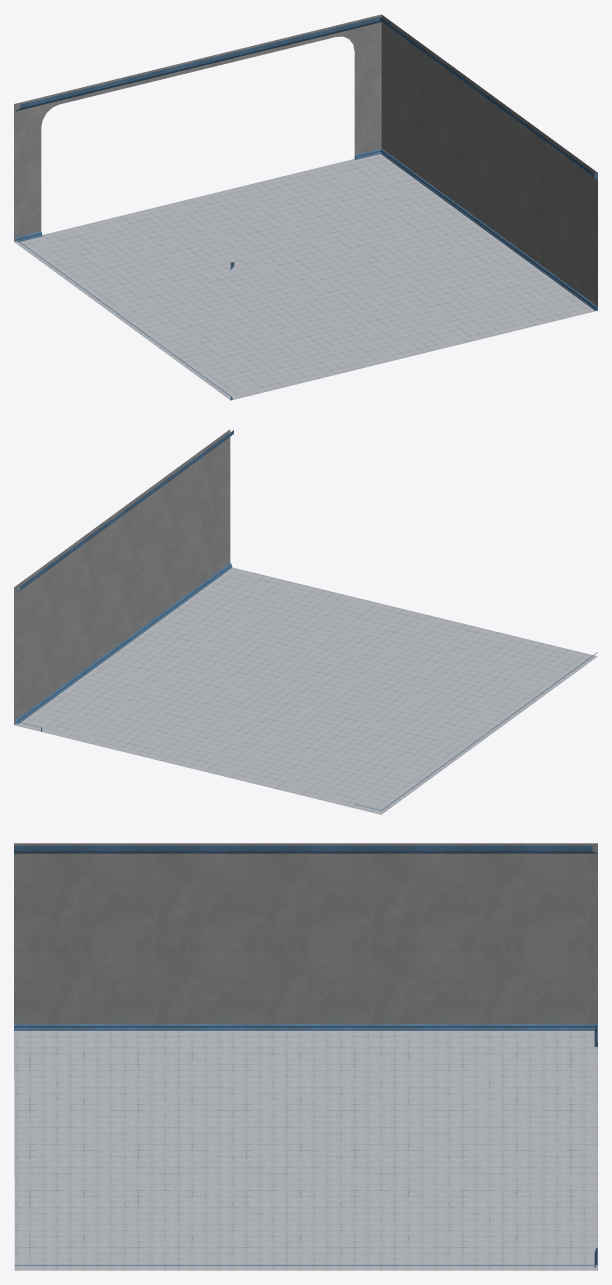
Rendered from PZ_ckpt2.glb.
3 views of the same model, one above another, from view 1: azimuth 30°, elevation 25°; view 2: azimuth 150°, elevation 25°; view 3: azimuth 270°, elevation 25° (orthographic). The views are drawn at different scales.
Visible parts, largest first — view 1: PZ_HallwayI; view 2: PZ_HallwayI; view 3: PZ_HallwayI.
Boxes of the visible parts, x1,y1,x2,y2 form: PZ_HallwayI: [14, 14, 597, 400]; PZ_HallwayI: [14, 429, 597, 814]; PZ_HallwayI: [14, 843, 597, 1270].
Size of the model in its own units: 20.08 by 7.2 by 20.5.
3 materials, 3 textured.
